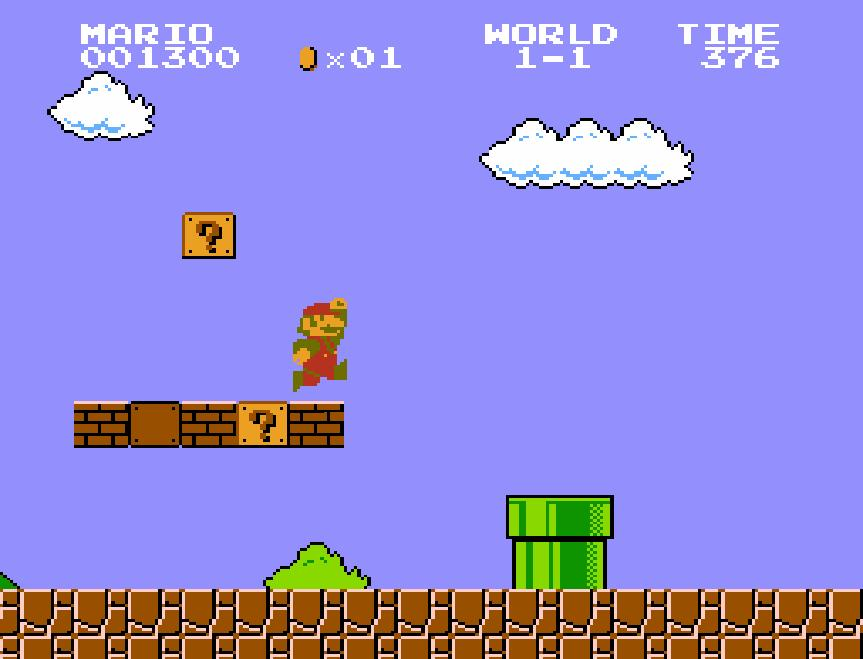big_mario: (291, 295, 349, 394)
